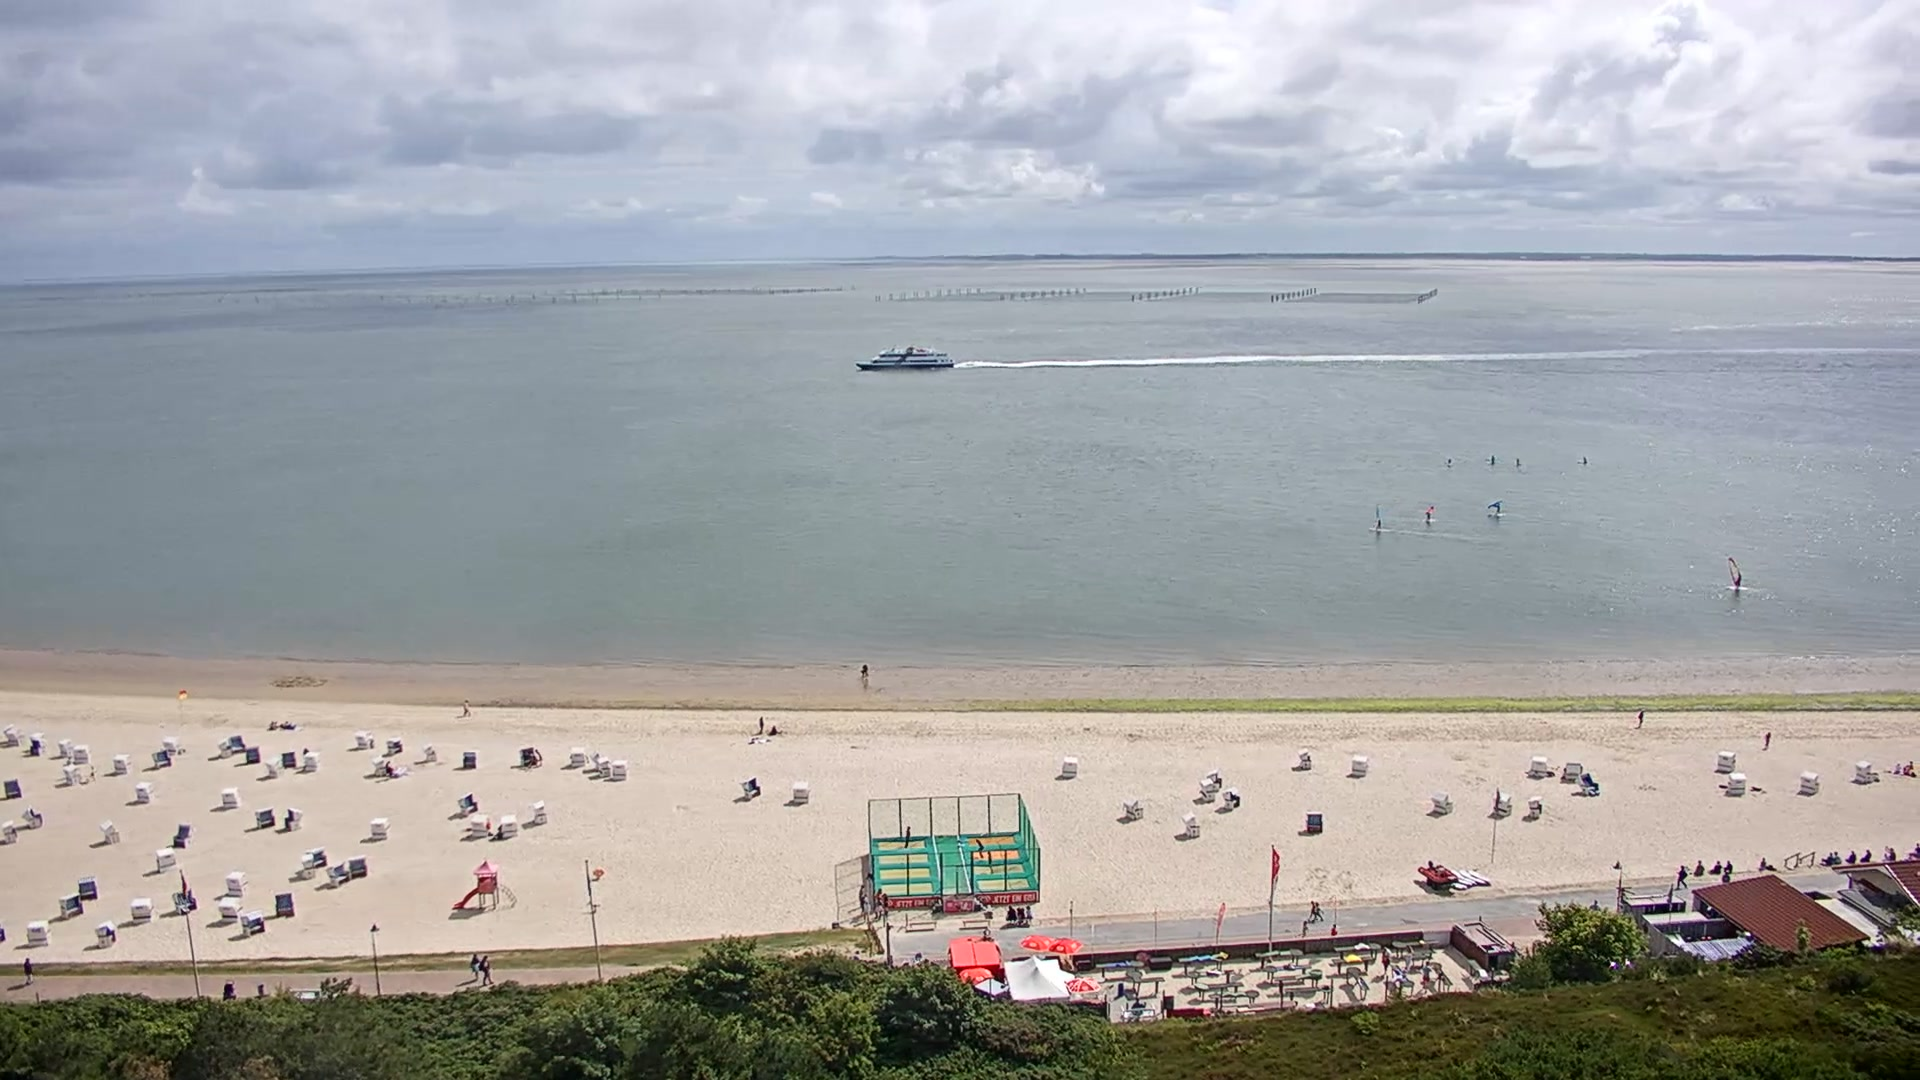human: (479, 954, 493, 985), (1130, 995, 1146, 1021), (1676, 864, 1688, 890), (469, 952, 480, 981), (22, 956, 32, 985), (1005, 903, 1017, 925), (861, 898, 870, 924), (1692, 859, 1705, 877), (874, 888, 883, 912), (975, 837, 985, 858), (1314, 901, 1324, 922), (1421, 961, 1432, 982), (462, 698, 472, 717), (858, 882, 866, 908), (1708, 859, 1721, 874), (882, 891, 890, 917), (1859, 848, 1872, 862), (1820, 851, 1833, 865), (986, 849, 994, 873), (1902, 760, 1914, 775), (1025, 904, 1034, 925), (1016, 905, 1024, 925), (1909, 841, 1920, 858), (1882, 846, 1895, 860), (1308, 899, 1316, 921), (385, 759, 394, 777), (768, 723, 781, 735), (861, 892, 869, 911), (1845, 849, 1857, 863), (1637, 708, 1645, 728), (903, 825, 910, 848), (1301, 919, 1309, 937), (1758, 856, 1767, 871), (860, 662, 869, 677), (1723, 859, 1733, 873), (1589, 898, 1599, 910), (1721, 871, 1731, 883), (1833, 850, 1842, 864), (1764, 730, 1771, 749), (1330, 923, 1338, 936), (1893, 761, 1902, 774), (758, 715, 764, 733), (1375, 518, 1382, 532), (1490, 454, 1496, 464), (1582, 455, 1588, 464), (1516, 456, 1522, 465), (1446, 457, 1452, 466)
sea: (855, 344, 956, 368), (1417, 860, 1459, 885), (1724, 554, 1747, 590), (1369, 502, 1393, 532), (1487, 499, 1506, 517), (1423, 504, 1438, 521)
